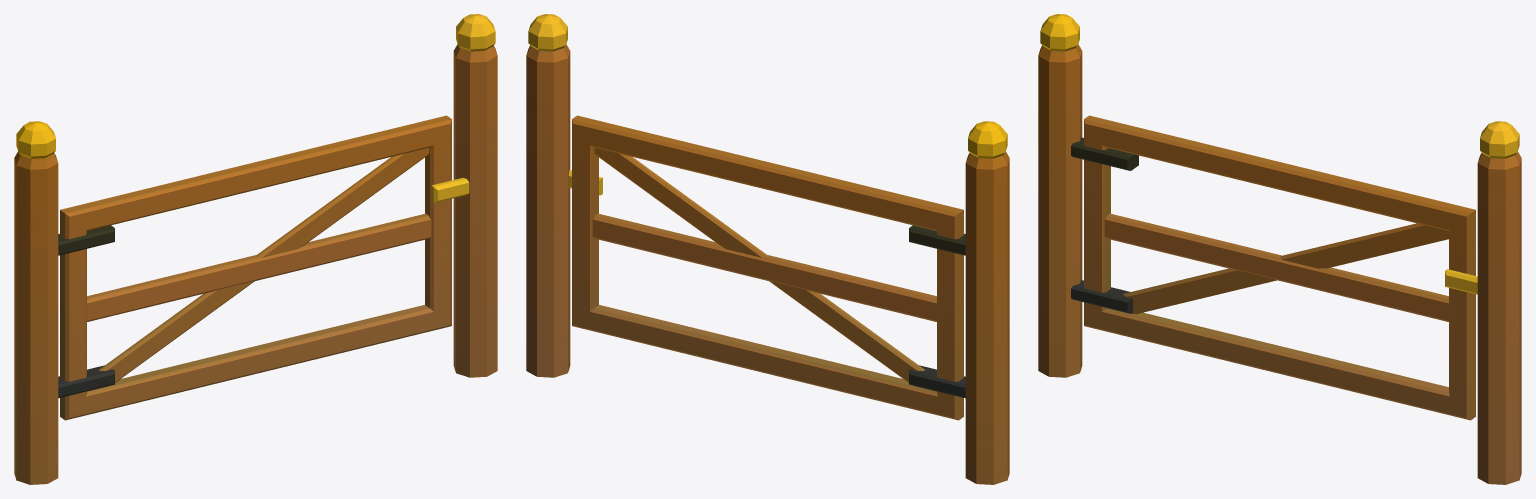
The model's file is Farm_Gate.glb.
The picture shows the model from 3 angles, left to right: view 1: azimuth 30°, elevation 25°; view 2: azimuth 150°, elevation 25°; view 3: azimuth 330°, elevation 25°; orthographic projection.
Visible parts, largest first — view 1: Gate, Farm_Gate; view 2: Gate, Farm_Gate; view 3: Gate, Farm_Gate.
Boxes of the visible parts, <box> form: Gate: <box>58,115,469,420</box>; Farm_Gate: <box>14,14,497,484</box>; Gate: <box>568,115,965,420</box>; Farm_Gate: <box>526,14,1009,484</box>; Gate: <box>1071,115,1477,420</box>; Farm_Gate: <box>1038,14,1521,484</box>.
Bounding box in the file's own units: 2.18 × 1.53 × 0.18.
